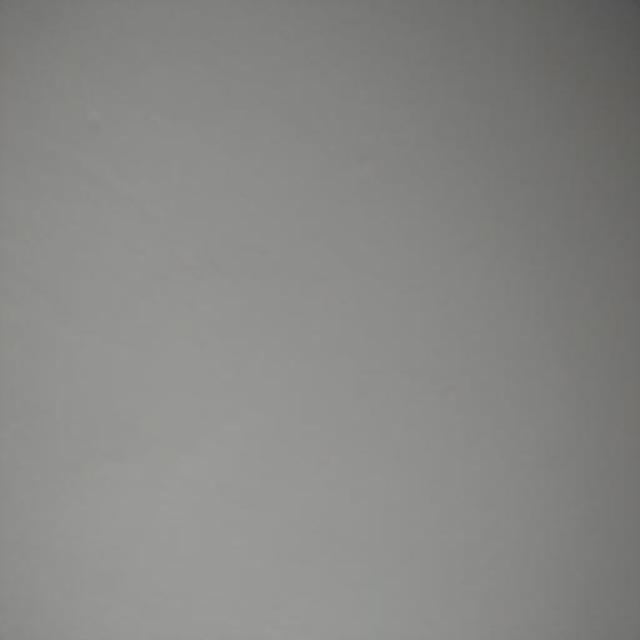normal_wall: (2, 0, 640, 640)
